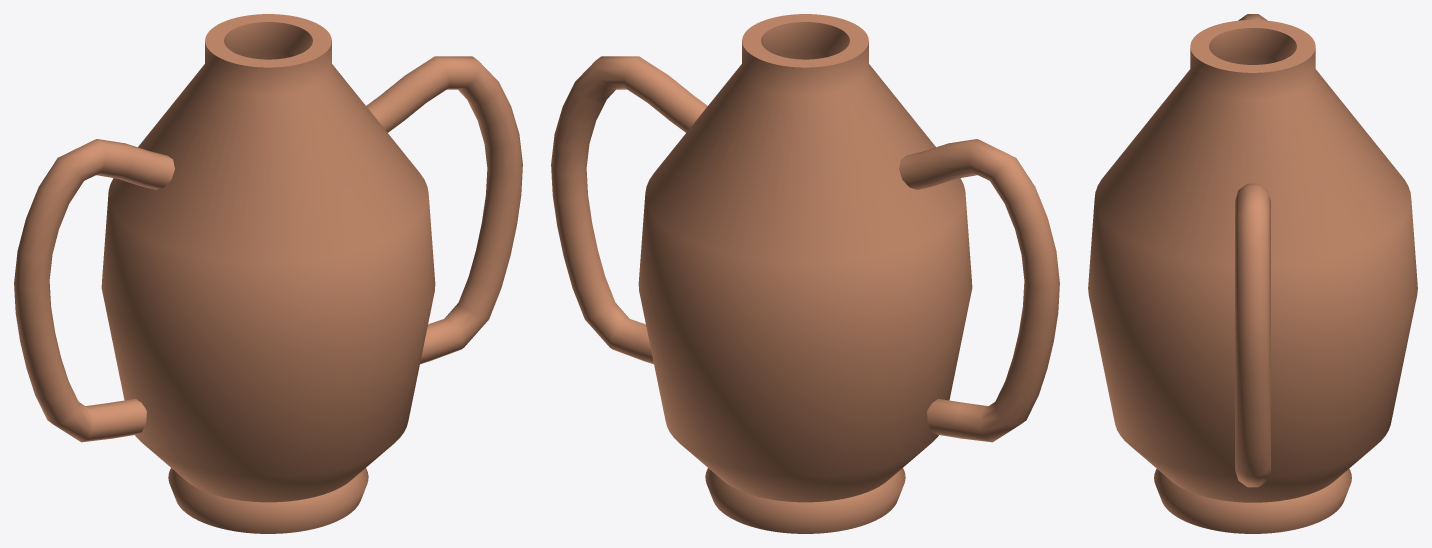
Rendered from ceramics-pottery-studio-amphora-1fbb2d7b__29511.glb.
The picture shows the model from 3 angles, left to right: view 1: azimuth 30°, elevation 25°; view 2: azimuth 150°, elevation 25°; view 3: azimuth 270°, elevation 25°; orthographic projection.
Parts seen in each view (by area): view 1: amphora; view 2: amphora; view 3: amphora.
Part boxes in pixels (left/top/right/bottom): amphora: left=14, top=14, right=522, bottom=533; amphora: left=551, top=14, right=1059, bottom=533; amphora: left=1088, top=14, right=1417, bottom=533.
Size of the model in its own units: 0.7661 by 0.66 by 0.44.
